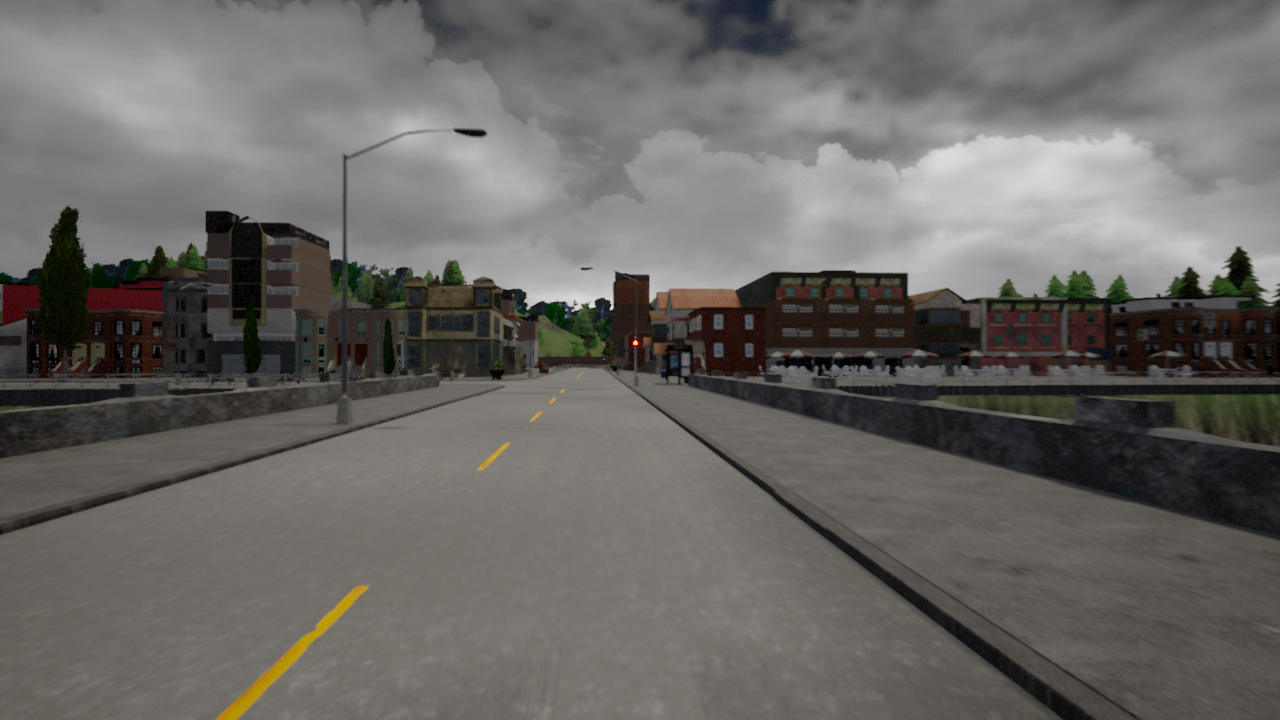red: (633, 337, 639, 354)
